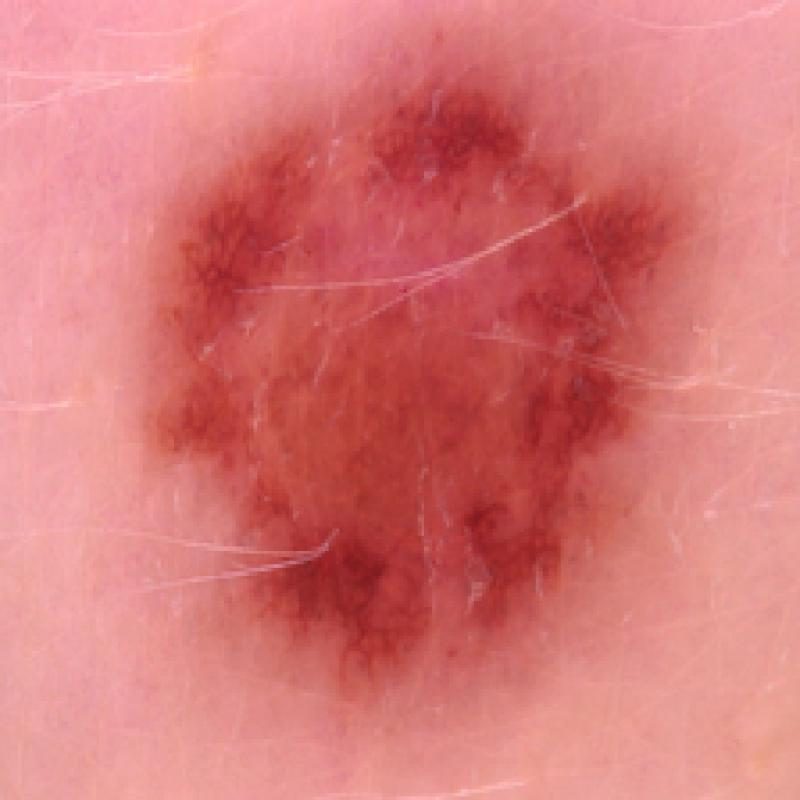benign: (150, 49, 688, 695)
